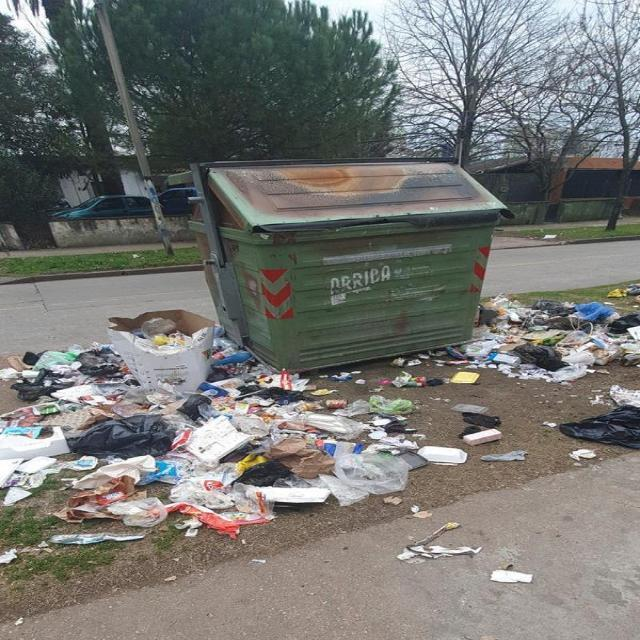garbage: (0, 346, 324, 551), (483, 292, 639, 464), (324, 360, 481, 508), (392, 518, 542, 600), (98, 302, 241, 373)
